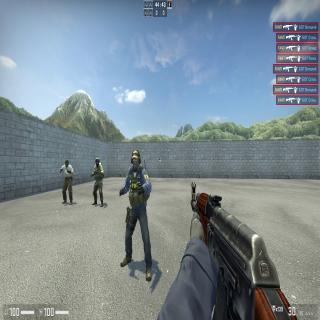CT-Body: (129, 150, 145, 267), (93, 158, 103, 205)
CT-Head: (131, 149, 141, 171), (95, 158, 99, 166)
T-Body: (61, 160, 73, 204)
T-Head: (65, 160, 69, 168)
